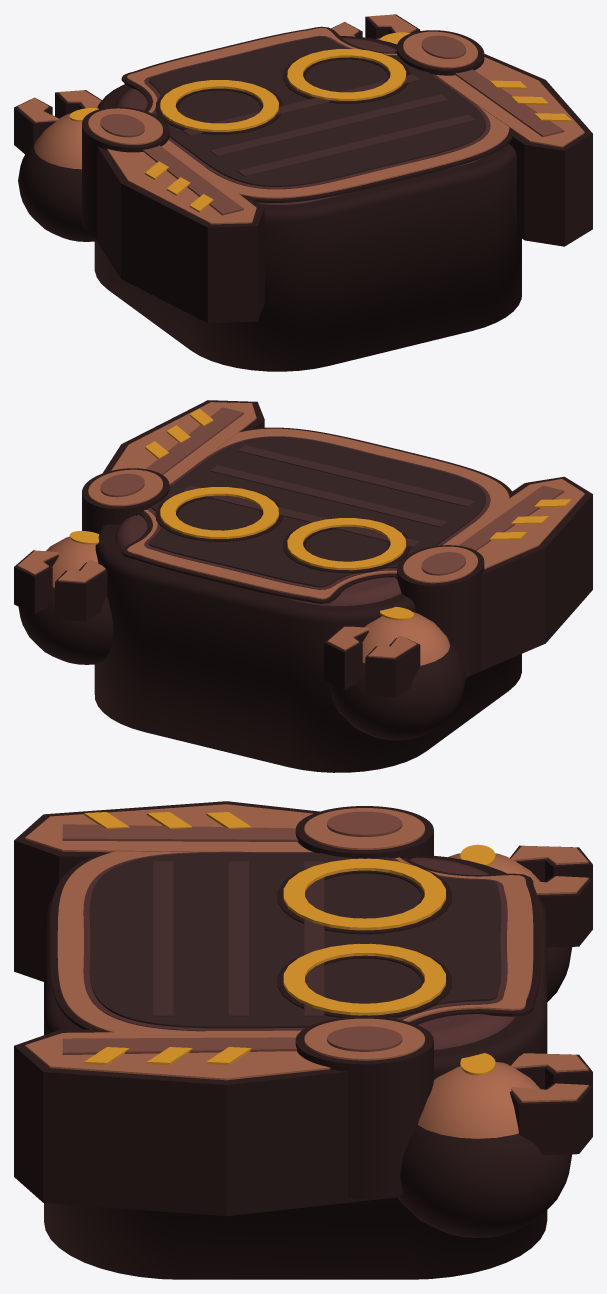
Rendered from body_robo.fbx.
3 renders of one model, top to bottom at view 1: azimuth 30°, elevation 25°; view 2: azimuth 150°, elevation 25°; view 3: azimuth 270°, elevation 25°, orthographic. The views are drawn at different scales.
Visible parts, largest first — view 1: body_robo_corpo, body_robo_mao_esq, body_robo_corpo_neon, body_robo_mao; view 2: body_robo_corpo, body_robo_mao_esq, body_robo_mao, body_robo_corpo_neon; view 3: body_robo_corpo, body_robo_mao, body_robo_corpo_neon, body_robo_mao_esq, body_robo_mao_neon.
Boxes of the visible parts, x1=… form: body_robo_corpo: x1=82, y1=26, x2=592, y2=371; body_robo_mao_esq: x1=14, y1=90, x2=101, y2=241; body_robo_corpo_neon: x1=145, y1=49, x2=571, y2=212; body_robo_mao: x1=331, y1=14, x2=420, y2=39; body_robo_corpo: x1=82, y1=400, x2=592, y2=772; body_robo_mao_esq: x1=324, y1=612, x2=465, y2=740; body_robo_mao: x1=14, y1=536, x2=113, y2=664; body_robo_corpo_neon: x1=145, y1=408, x2=571, y2=570; body_robo_corpo: x1=14, y1=801, x2=547, y2=1279; body_robo_mao: x1=398, y1=1053, x2=592, y2=1237; body_robo_corpo_neon: x1=84, y1=812, x2=445, y2=1065; body_robo_mao_esq: x1=448, y1=845, x2=592, y2=1001; body_robo_mao_neon: x1=460, y1=1053, x2=495, y2=1075.
Bounding box in the file's own units: 5.4 × 2.13 × 4.6.
1 material, 1 textured.
